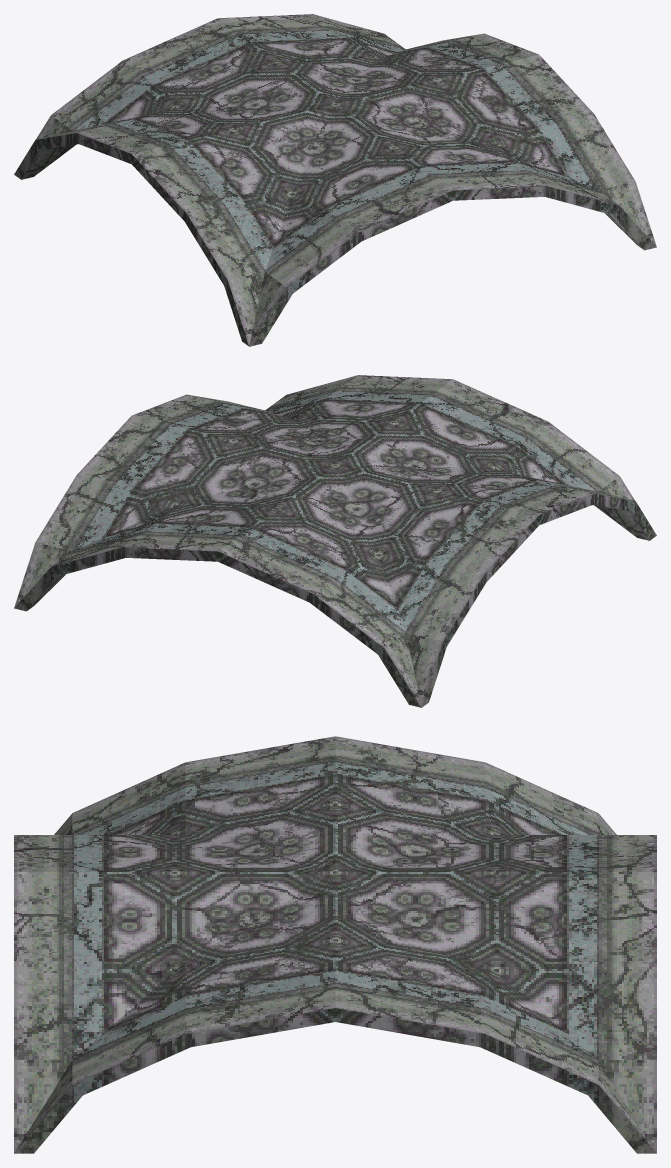
Rendered from roof_set3_03.gltf.
The picture shows the model from 3 angles, top to bottom: view 1: azimuth 30°, elevation 25°; view 2: azimuth 150°, elevation 25°; view 3: azimuth 270°, elevation 25°; orthographic projection. The views are drawn at different scales.
Parts seen in each view (by area): view 1: roof_set3_03; view 2: roof_set3_03; view 3: roof_set3_03.
Part boxes in pixels (box(x1,y1,x2,y2)): roof_set3_03: box(14, 14, 656, 346); roof_set3_03: box(14, 375, 656, 707); roof_set3_03: box(14, 736, 656, 1153).
Size of the model in its own units: 4 by 1 by 4.
Materials: 1 (1 with a texture image).
